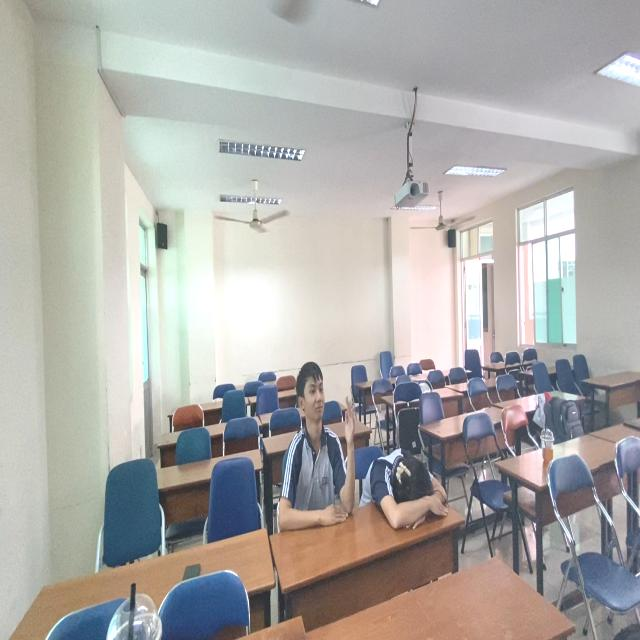raise_hand: (272, 358, 358, 540)
sleep: (359, 440, 458, 535)
